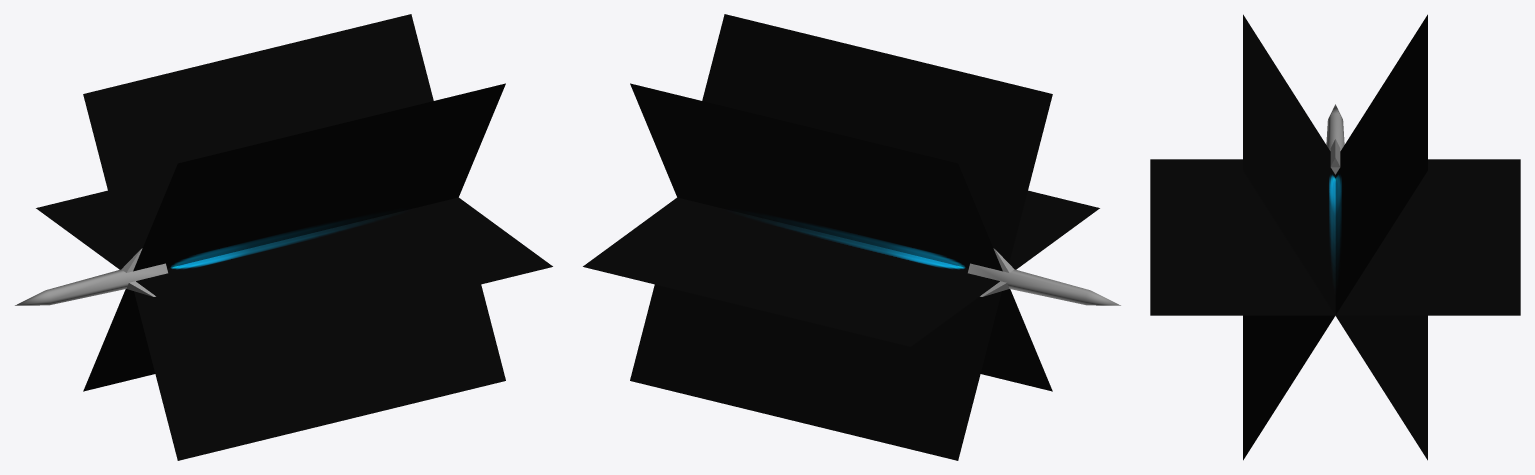
File: missile_001.fbx
The picture shows the model from 3 angles, left to right: view 1: azimuth 30°, elevation 25°; view 2: azimuth 150°, elevation 25°; view 3: azimuth 270°, elevation 25°; orthographic projection. The views are drawn at different scales.
Visible parts, largest first — view 1: msl; view 2: msl; view 3: msl.
Part boxes in pixels (<box>): msl: <box>15,14,552,460</box>; msl: <box>583,14,1120,460</box>; msl: <box>1150,14,1520,460</box>.
Bounding box in the file's own units: 508 × 325 × 375.
Materials: 2 (1 with a texture image).
